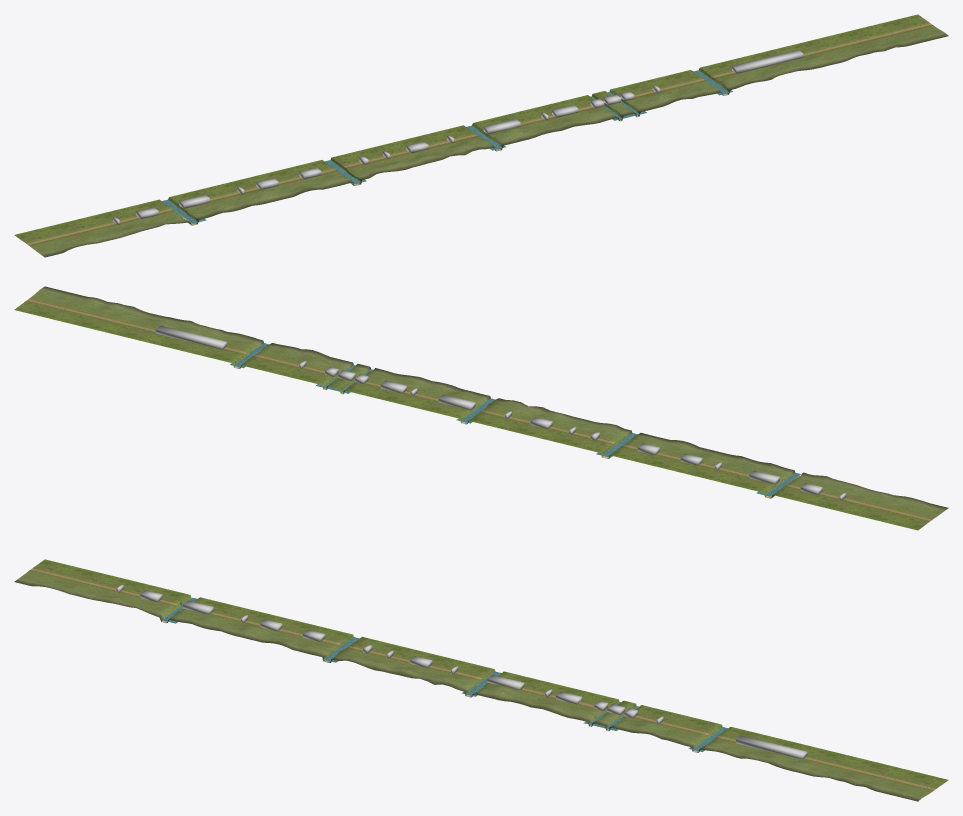
File: LandscapeLevel03.fbx
3 renders of one model, top to bottom at view 1: azimuth 30°, elevation 25°; view 2: azimuth 150°, elevation 25°; view 3: azimuth 330°, elevation 25°, orthographic.
Visible parts, largest first — view 1: Plane, Plane_019, Plane_002; view 2: Plane, Plane_019, Plane_002; view 3: Plane, Plane_019, Plane_002.
Boxes of the visible parts, x1=… form: Plane: x1=14, y1=14, x2=948, y2=257; Plane_019: x1=113, y1=50, x2=803, y2=224; Plane_002: x1=162, y1=70, x2=732, y2=223; Plane: x1=14, y1=286, x2=948, y2=530; Plane_019: x1=155, y1=325, x2=846, y2=500; Plane_002: x1=230, y1=343, x2=800, y2=496; Plane: x1=14, y1=559, x2=948, y2=801; Plane_019: x1=116, y1=584, x2=807, y2=759; Plane_002: x1=162, y1=597, x2=727, y2=751.
Size of the model in its own units: 4220 by 39.36 by 250.
